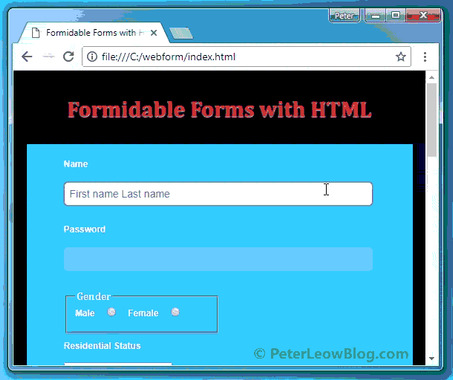_form_: (1, 1, 416, 380)
field: (64, 181, 376, 207), (62, 247, 374, 273), (81, 45, 413, 68)
field_with_label: (62, 159, 379, 209), (60, 225, 376, 275)
radio: (105, 307, 117, 318), (169, 307, 181, 318)
radio_with_label: (126, 305, 185, 320), (73, 305, 118, 320)
